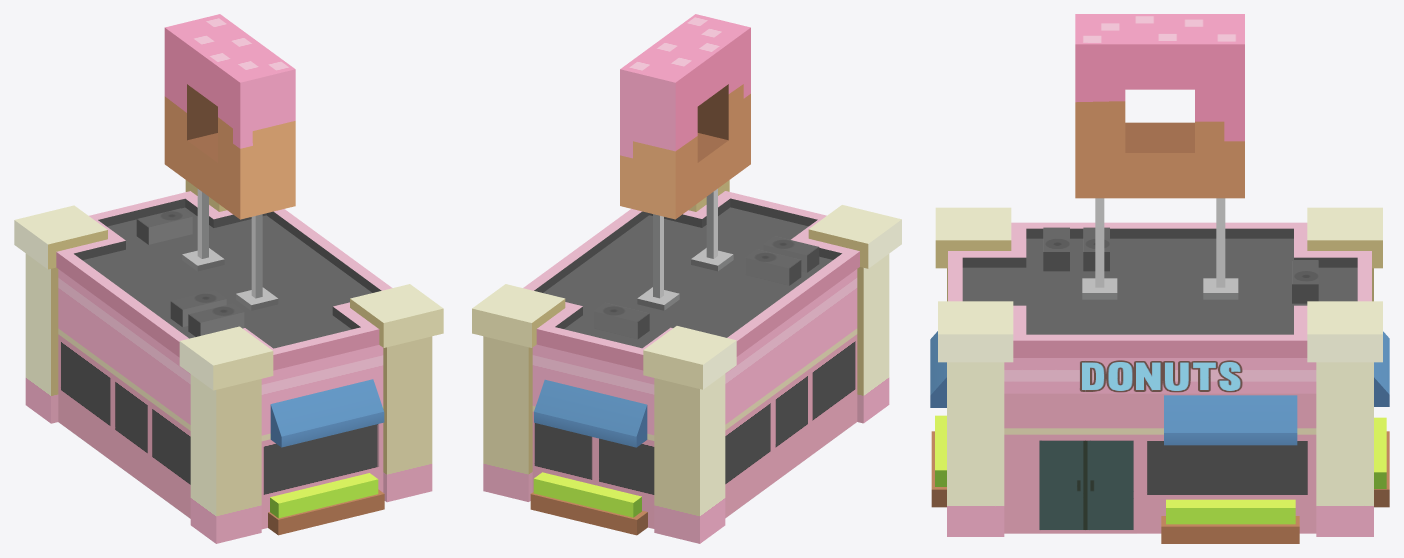
File: donut_shop.glb
The picture shows the model from 3 angles, left to right: view 1: azimuth 30°, elevation 25°; view 2: azimuth 150°, elevation 25°; view 3: azimuth 270°, elevation 25°; orthographic projection. The views are drawn at different scales.
Parts seen in each view (by area): view 1: donut_shop_mesh; view 2: donut_shop_mesh; view 3: donut_shop_mesh.
Boxes of the visible parts, left/top/right/bottom form: donut_shop_mesh: left=14, top=14, right=443, bottom=543; donut_shop_mesh: left=472, top=14, right=901, bottom=543; donut_shop_mesh: left=930, top=14, right=1389, bottom=543.
Size of the model in its own units: 0.1222 by 0.1972 by 0.1829.
1 material, 1 textured.
